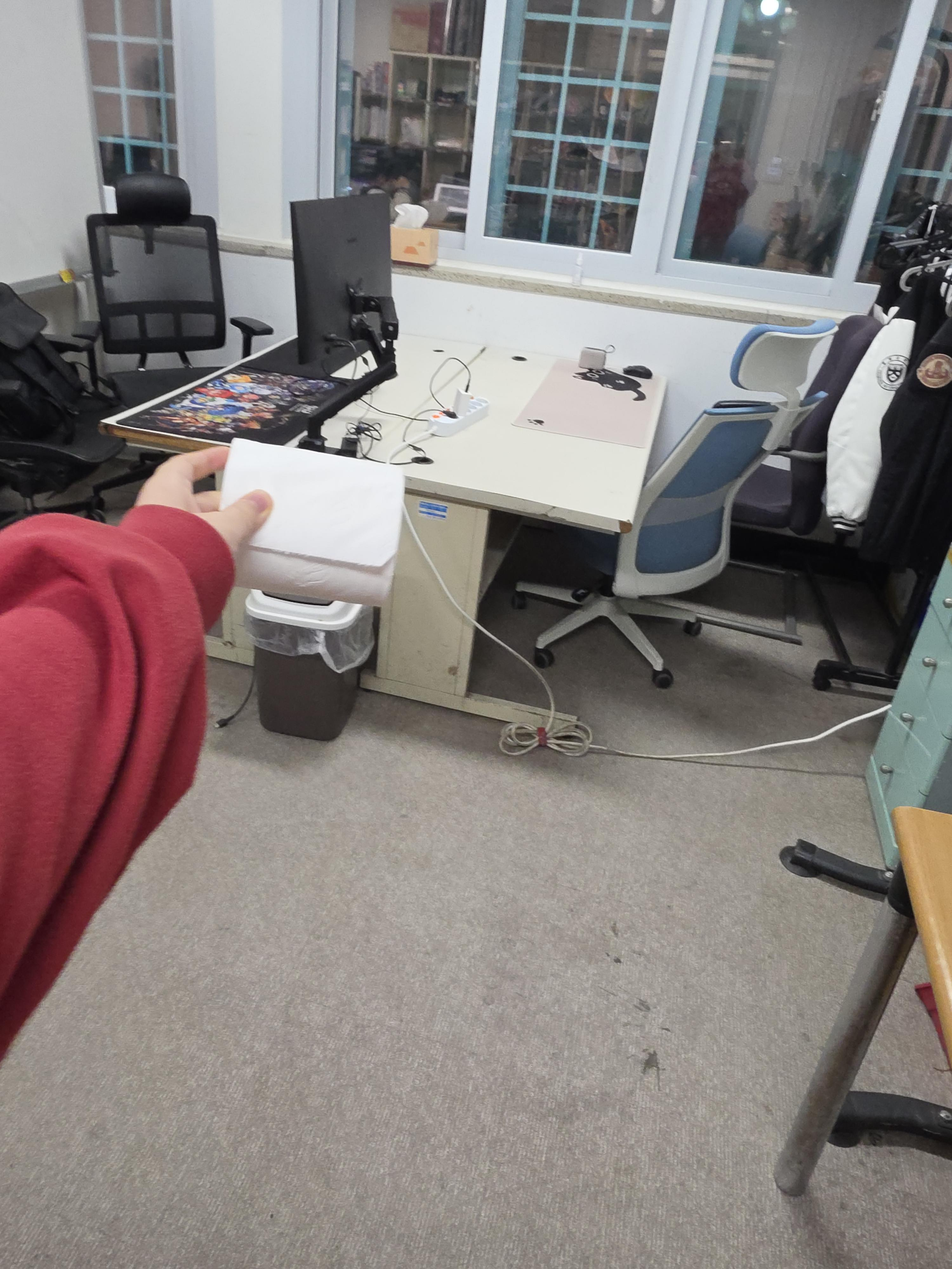tissue: (219, 437, 405, 607), (390, 203, 439, 267)
